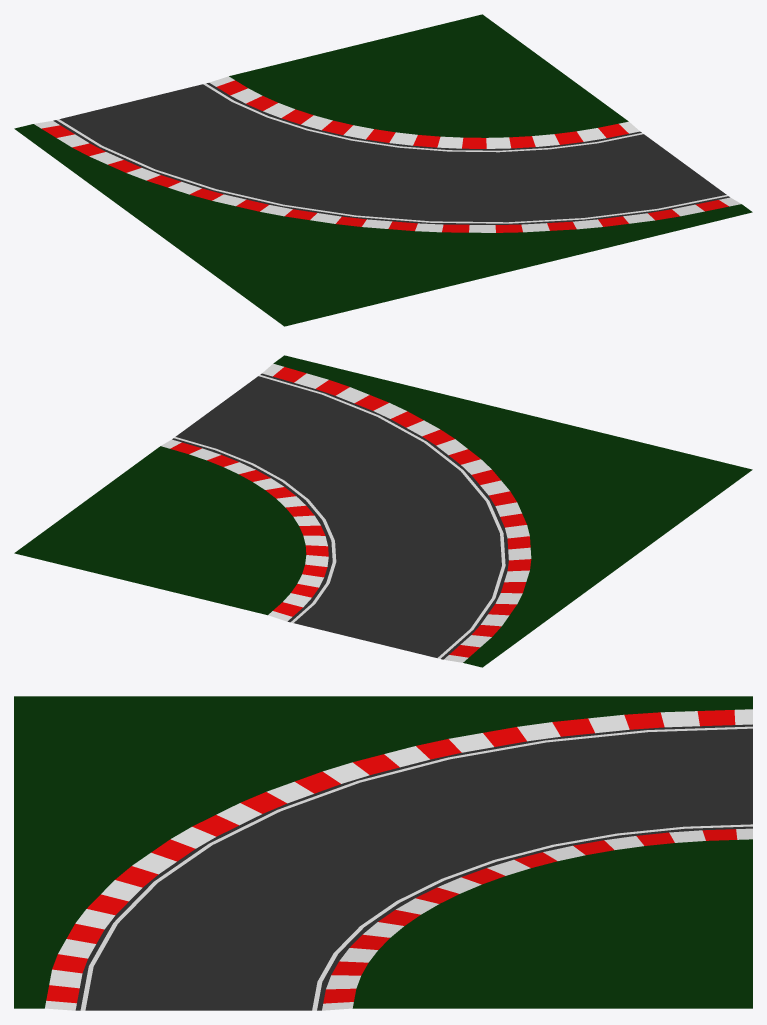
The model's file is ETC0510005.fbx.
The picture shows the model from 3 angles, top to bottom: view 1: azimuth 30°, elevation 25°; view 2: azimuth 150°, elevation 25°; view 3: azimuth 270°, elevation 25°; orthographic projection. The views are drawn at different scales.
Visible parts, largest first — view 1: smETC0510005; view 2: smETC0510005; view 3: smETC0510005.
Part boxes in pixels (left/top/right/bottom): smETC0510005: left=14, top=14, right=752, bottom=326; smETC0510005: left=14, top=355, right=752, bottom=667; smETC0510005: left=14, top=696, right=752, bottom=1010.
Bounding box in the file's own units: 3600 × 12 × 3600.
Materials: 1 (1 with a texture image).
